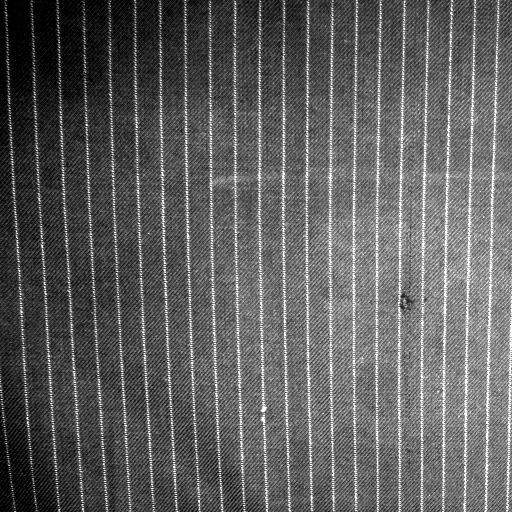fabric_hole: (395, 290, 419, 322)
